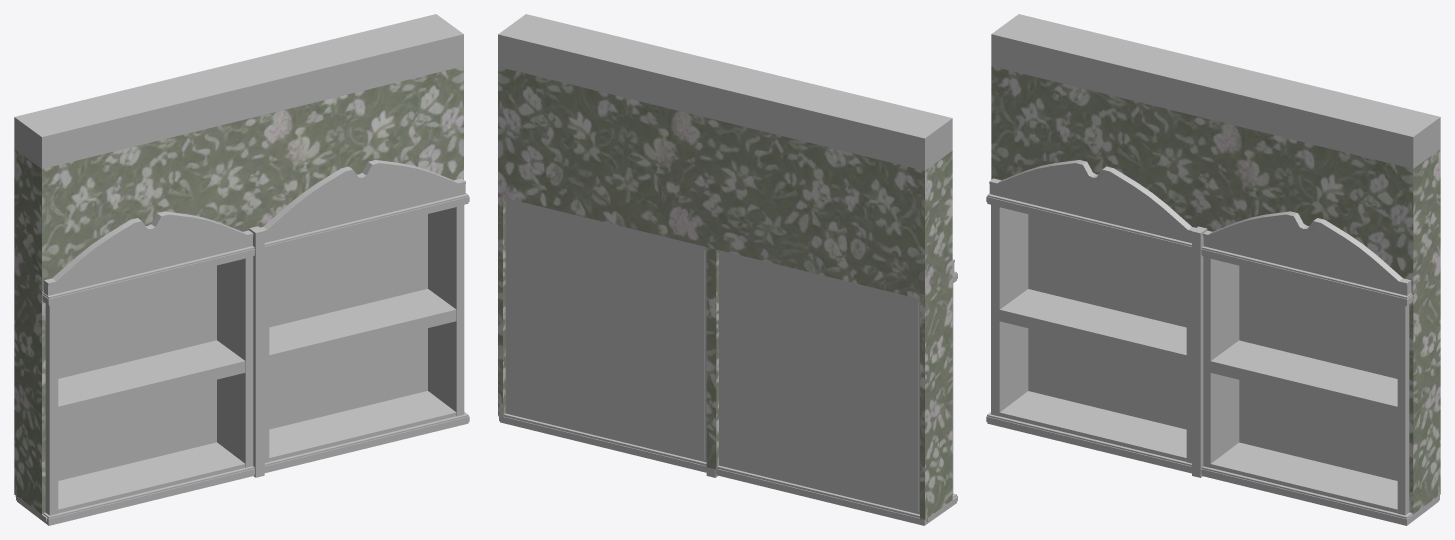
Rendered from kitcentop02aa.fbx.
The picture shows the model from 3 angles, left to right: view 1: azimuth 30°, elevation 25°; view 2: azimuth 150°, elevation 25°; view 3: azimuth 330°, elevation 25°; orthographic projection.
Visible parts, largest first — view 1: kitcentop02aa; view 2: kitcentop02aa; view 3: kitcentop02aa.
Boxes of the visible parts, x1=… form: kitcentop02aa: x1=14, y1=14, x2=469, y2=525; kitcentop02aa: x1=498, y1=14, x2=957, y2=525; kitcentop02aa: x1=986, y1=14, x2=1440, y2=525.
Size of the model in its own units: 1.85 by 1.62 by 0.2607.
